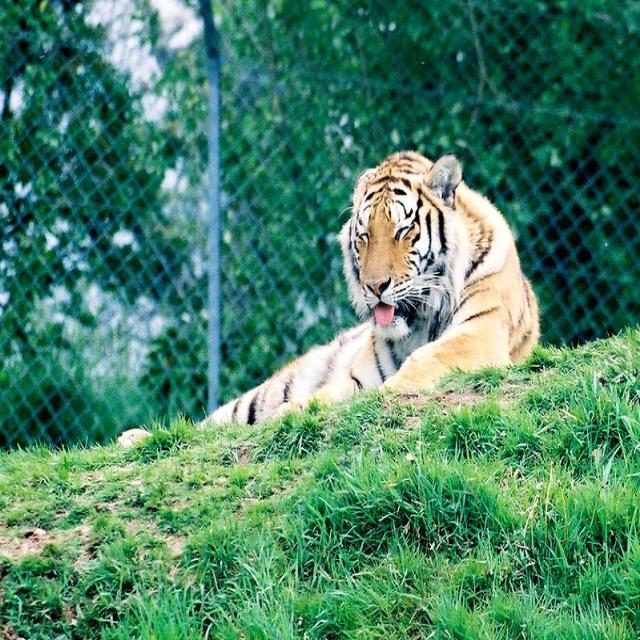Tiger: (114, 147, 542, 451)
